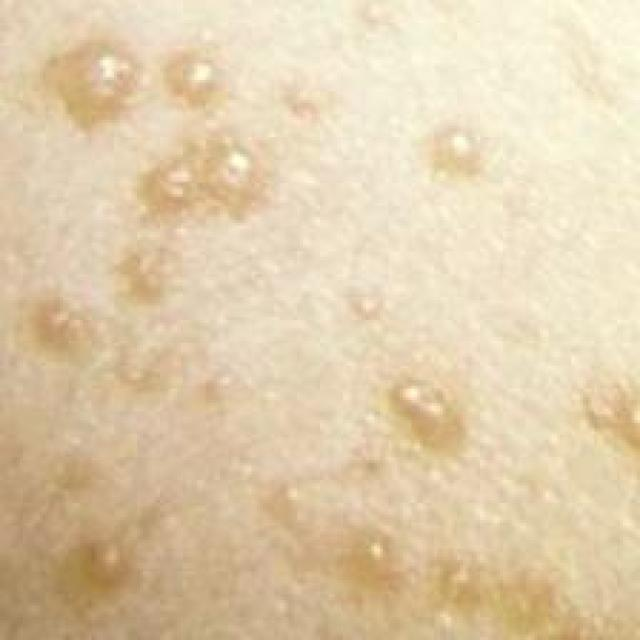others: (24, 14, 628, 632)
